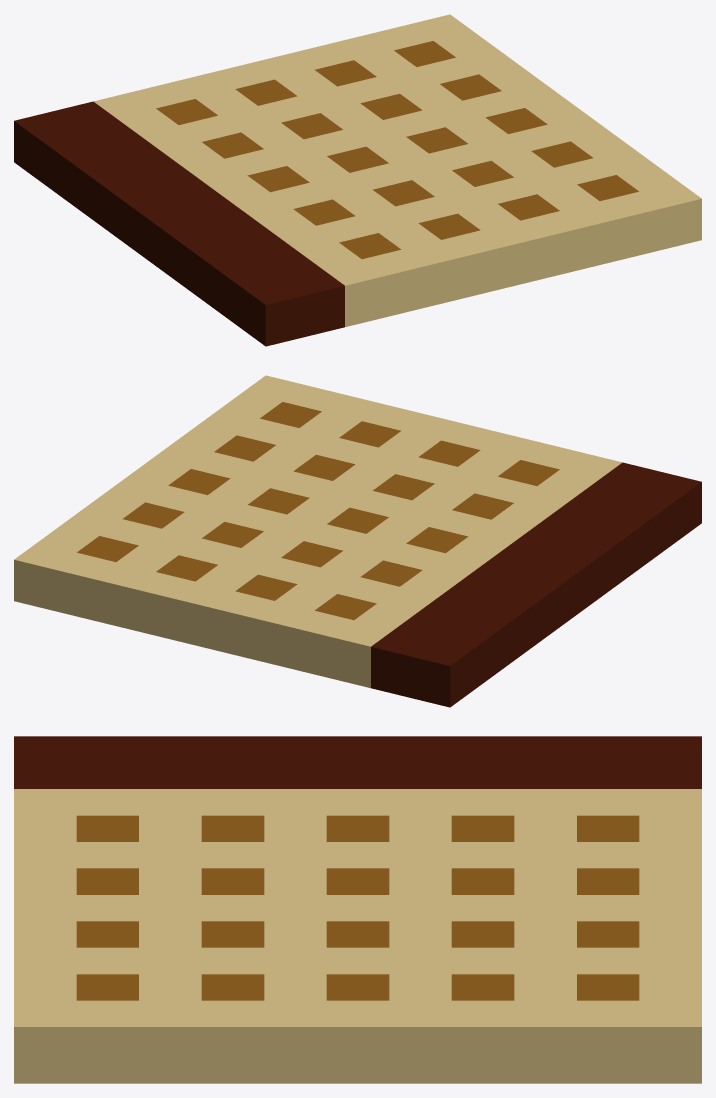
File: Calendar.gltf
3 renders of one model, top to bottom at view 1: azimuth 30°, elevation 25°; view 2: azimuth 150°, elevation 25°; view 3: azimuth 270°, elevation 25°, orthographic. The views are drawn at different scales.
Visible parts, largest first — view 1: Layer.1; view 2: Layer.1; view 3: Layer.1.
Boxes of the visible parts, bbox=[...] form: Layer.1: bbox=[14, 14, 701, 346]; Layer.1: bbox=[14, 375, 701, 707]; Layer.1: bbox=[14, 736, 701, 1083].
Bounding box in the file's own units: 11 × 1 × 11.
